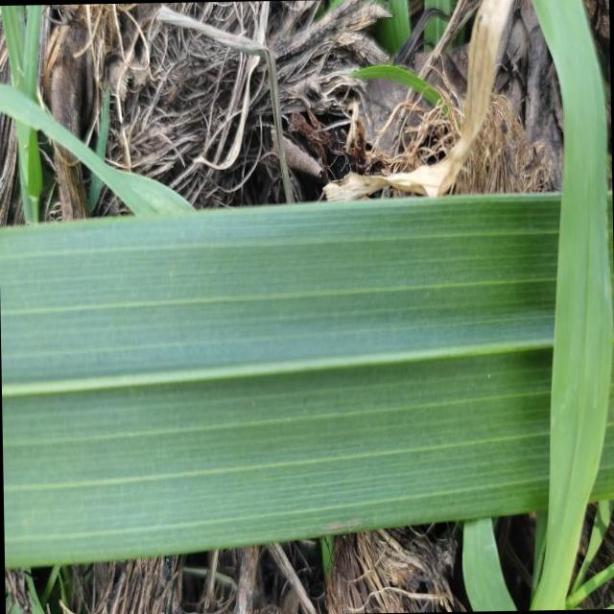Healthy: (0, 192, 614, 569)
